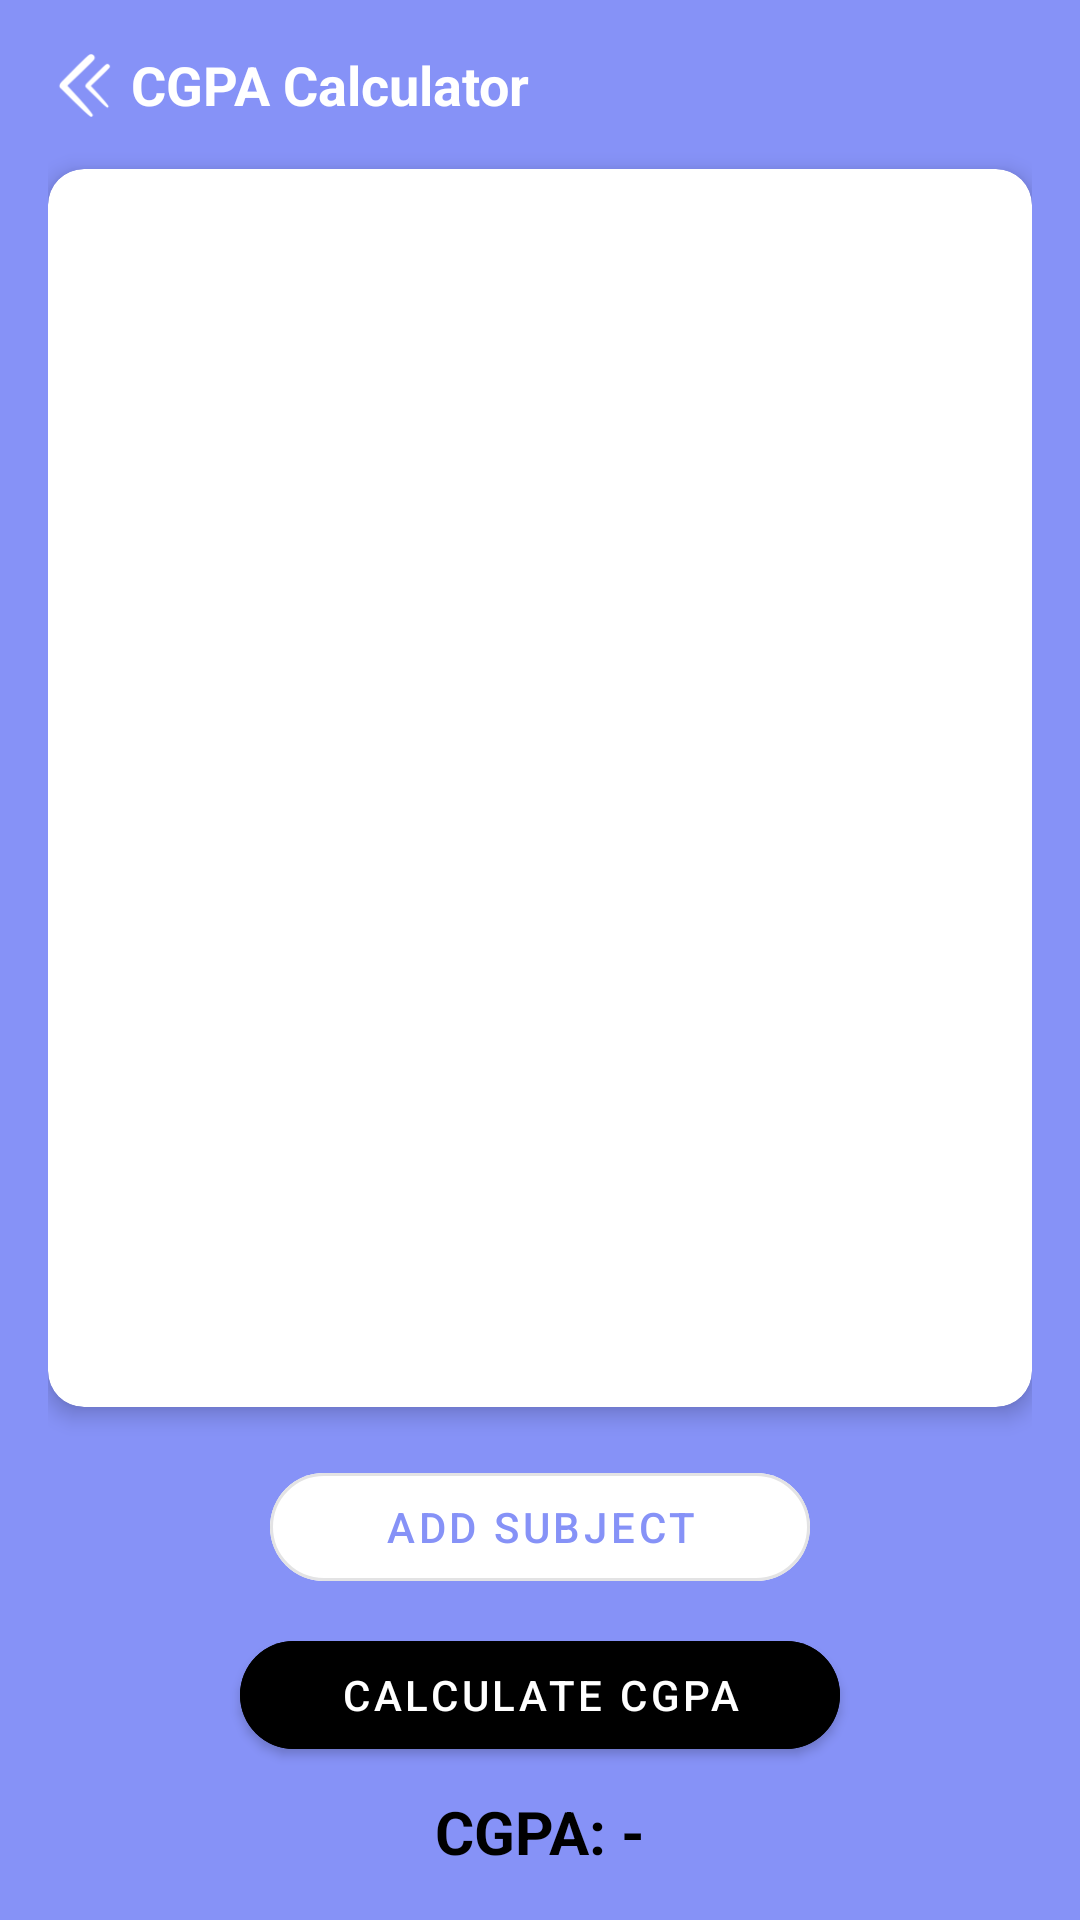

Icons on this 1080w x 1920h Android screen, each with the point to tap as (x=x, y=y):
back: (x=84, y=85)
